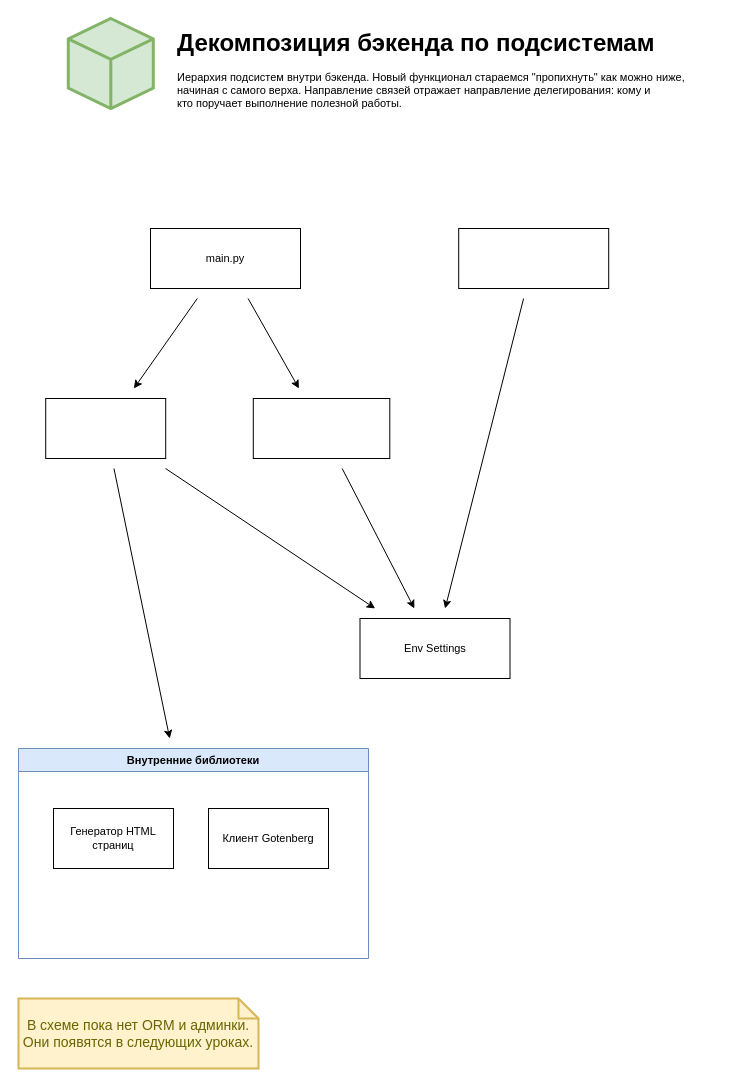
This 732x1087 diagram has some shape labels left out. The centre of each missing label's shape, as x and y in pixels:
"Веб API для фронтенда" belongs at point (105, 428).
"Инструменты разработки" belongs at point (533, 258).
"Мокированный веб API для фронтенда" belongs at point (321, 428).
